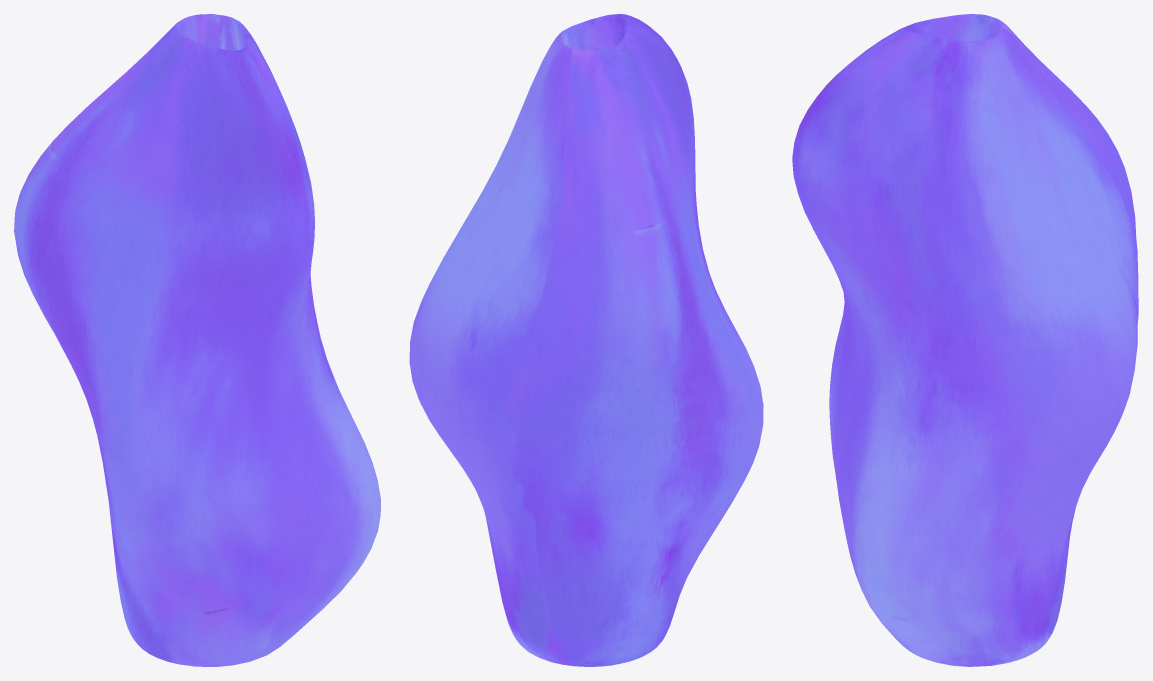
The model's file is Archi2.fbx.
3 renders of one model, left to right at view 1: azimuth 30°, elevation 25°; view 2: azimuth 150°, elevation 25°; view 3: azimuth 270°, elevation 25°, orthographic.
Parts seen in each view (by area): view 1: Organic_building1.001; view 2: Organic_building1.001; view 3: Organic_building1.001.
Boxes of the visible parts, x1,y1,x2,y2 form: Organic_building1.001: (14,14,380,666); Organic_building1.001: (409,14,763,666); Organic_building1.001: (792,14,1138,666).
Size of the model in its own units: 12.08 by 13.38 by 26.
Materials: 1 (1 with a texture image).
